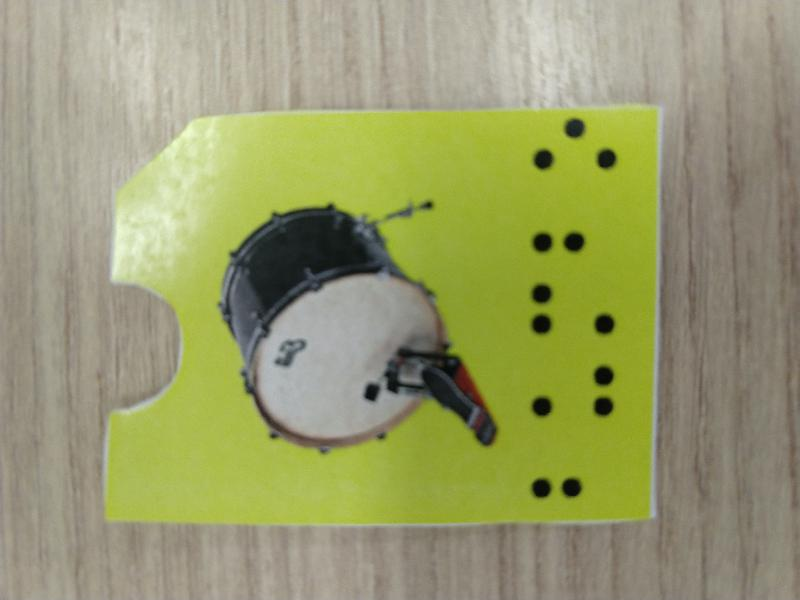bumbo: (102, 98, 670, 532)
